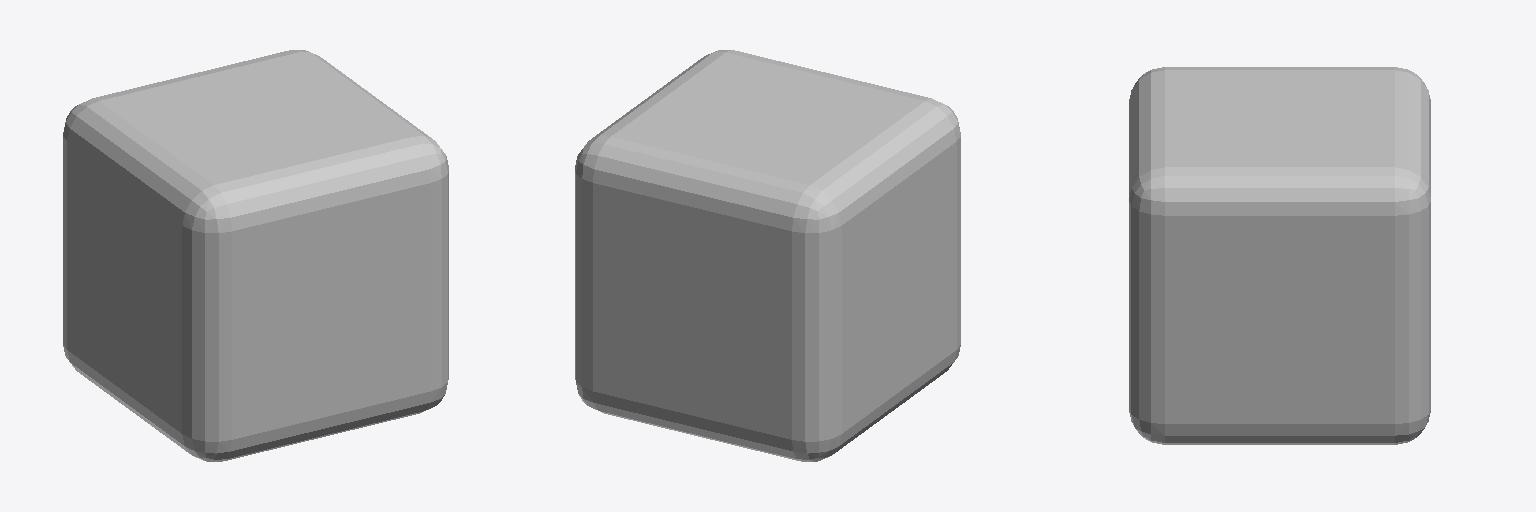
Rendered from SnowBlock.obj.
The picture shows the model from 3 angles: view 1: azimuth 30°, elevation 25°; view 2: azimuth 150°, elevation 25°; view 3: azimuth 270°, elevation 25°; orthographic projection.
Parts seen in each view (by area): view 1: Cube; view 2: Cube; view 3: Cube.
Boxes of the visible parts, <box> form: Cube: <box>63,50,448,461</box>; Cube: <box>575,50,960,461</box>; Cube: <box>1129,67,1430,444</box>.
Bounding box in the file's own units: 2 × 2 × 2.